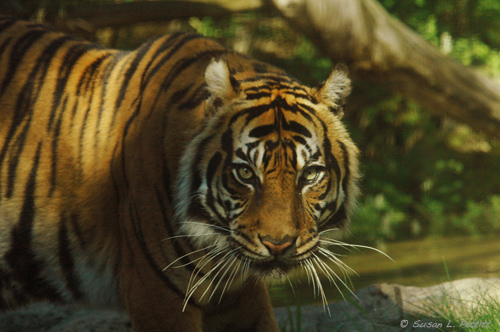Tigre: (18, 22, 361, 328)
